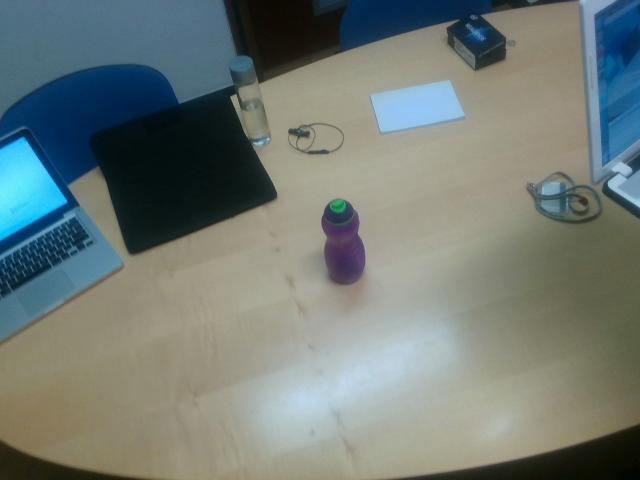bottle: (322, 199, 366, 285)
